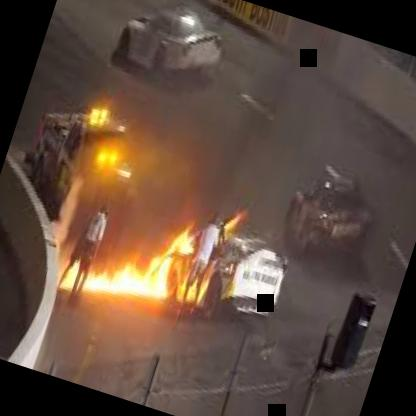fire: (47, 182, 214, 348)
